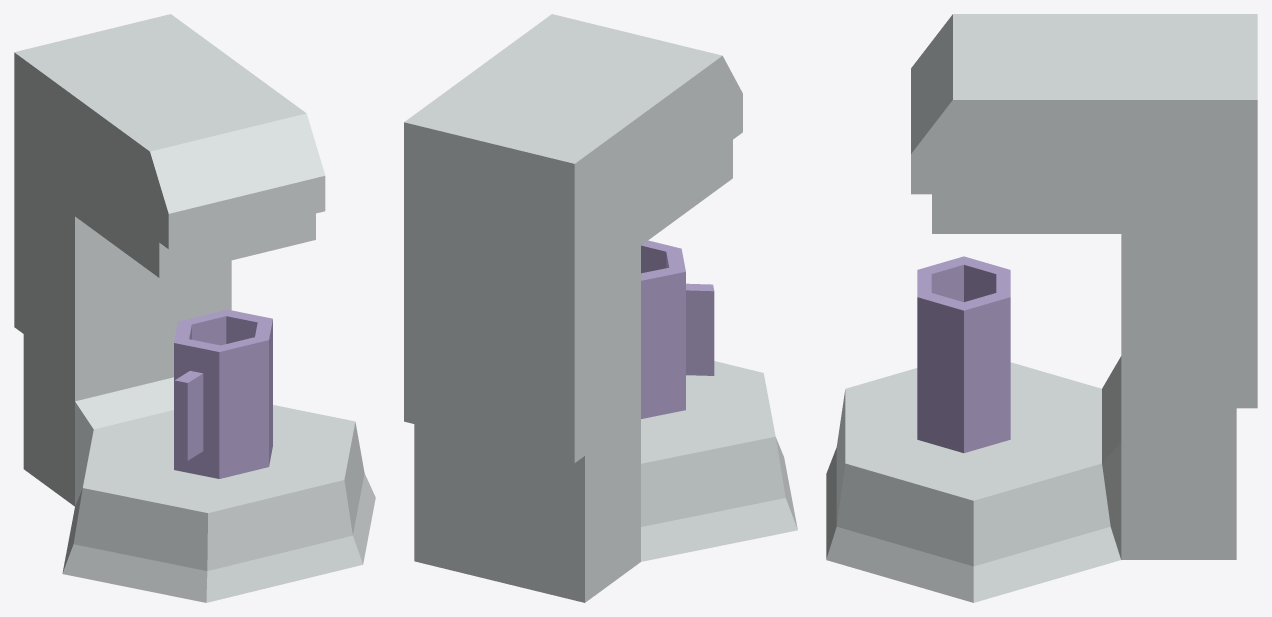
Rendered from coffee-machine.glb.
3 renders of one model, left to right at view 1: azimuth 30°, elevation 25°; view 2: azimuth 150°, elevation 25°; view 3: azimuth 270°, elevation 25°, orthographic. The views are drawn at different scales.
Parts seen in each view (by area): view 1: vendor-aluminium, vendor-lavender; view 2: vendor-aluminium, vendor-lavender; view 3: vendor-aluminium, vendor-lavender.
Part boxes in pixels (x1,y1,x2,y2): vendor-aluminium: (14,14,375,602); vendor-lavender: (174,309,272,478); vendor-aluminium: (404,14,797,602); vendor-lavender: (641,240,714,418); vendor-aluminium: (826,14,1257,602); vendor-lavender: (917,256,1010,453).
Bounding box in the file's own units: 0.816 × 1.02 × 0.867.
Materials: 1 (1 with a texture image).
